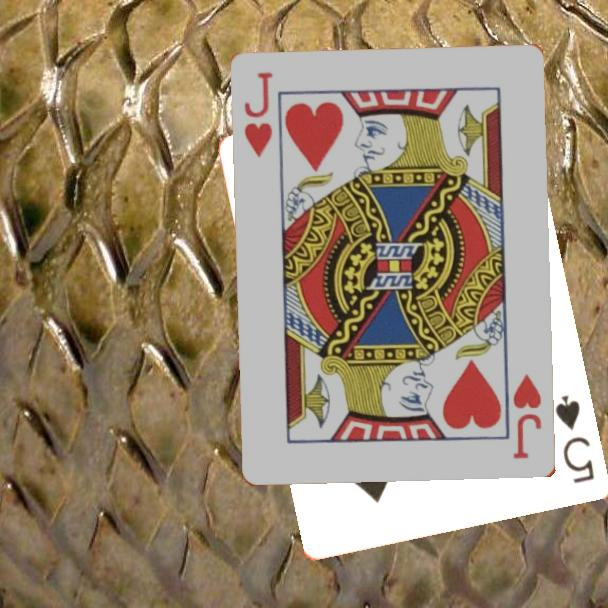h11: (510, 370, 545, 462), (241, 69, 276, 161)
s05: (552, 391, 598, 487)
